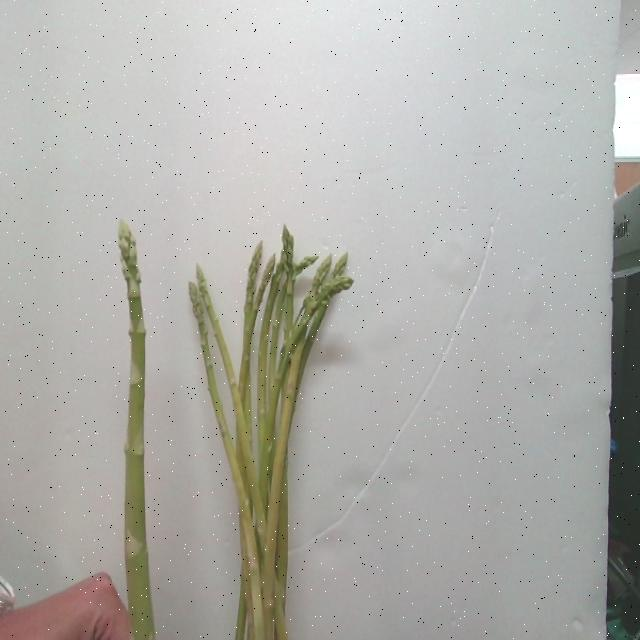aspargus: (116, 221, 156, 640)
